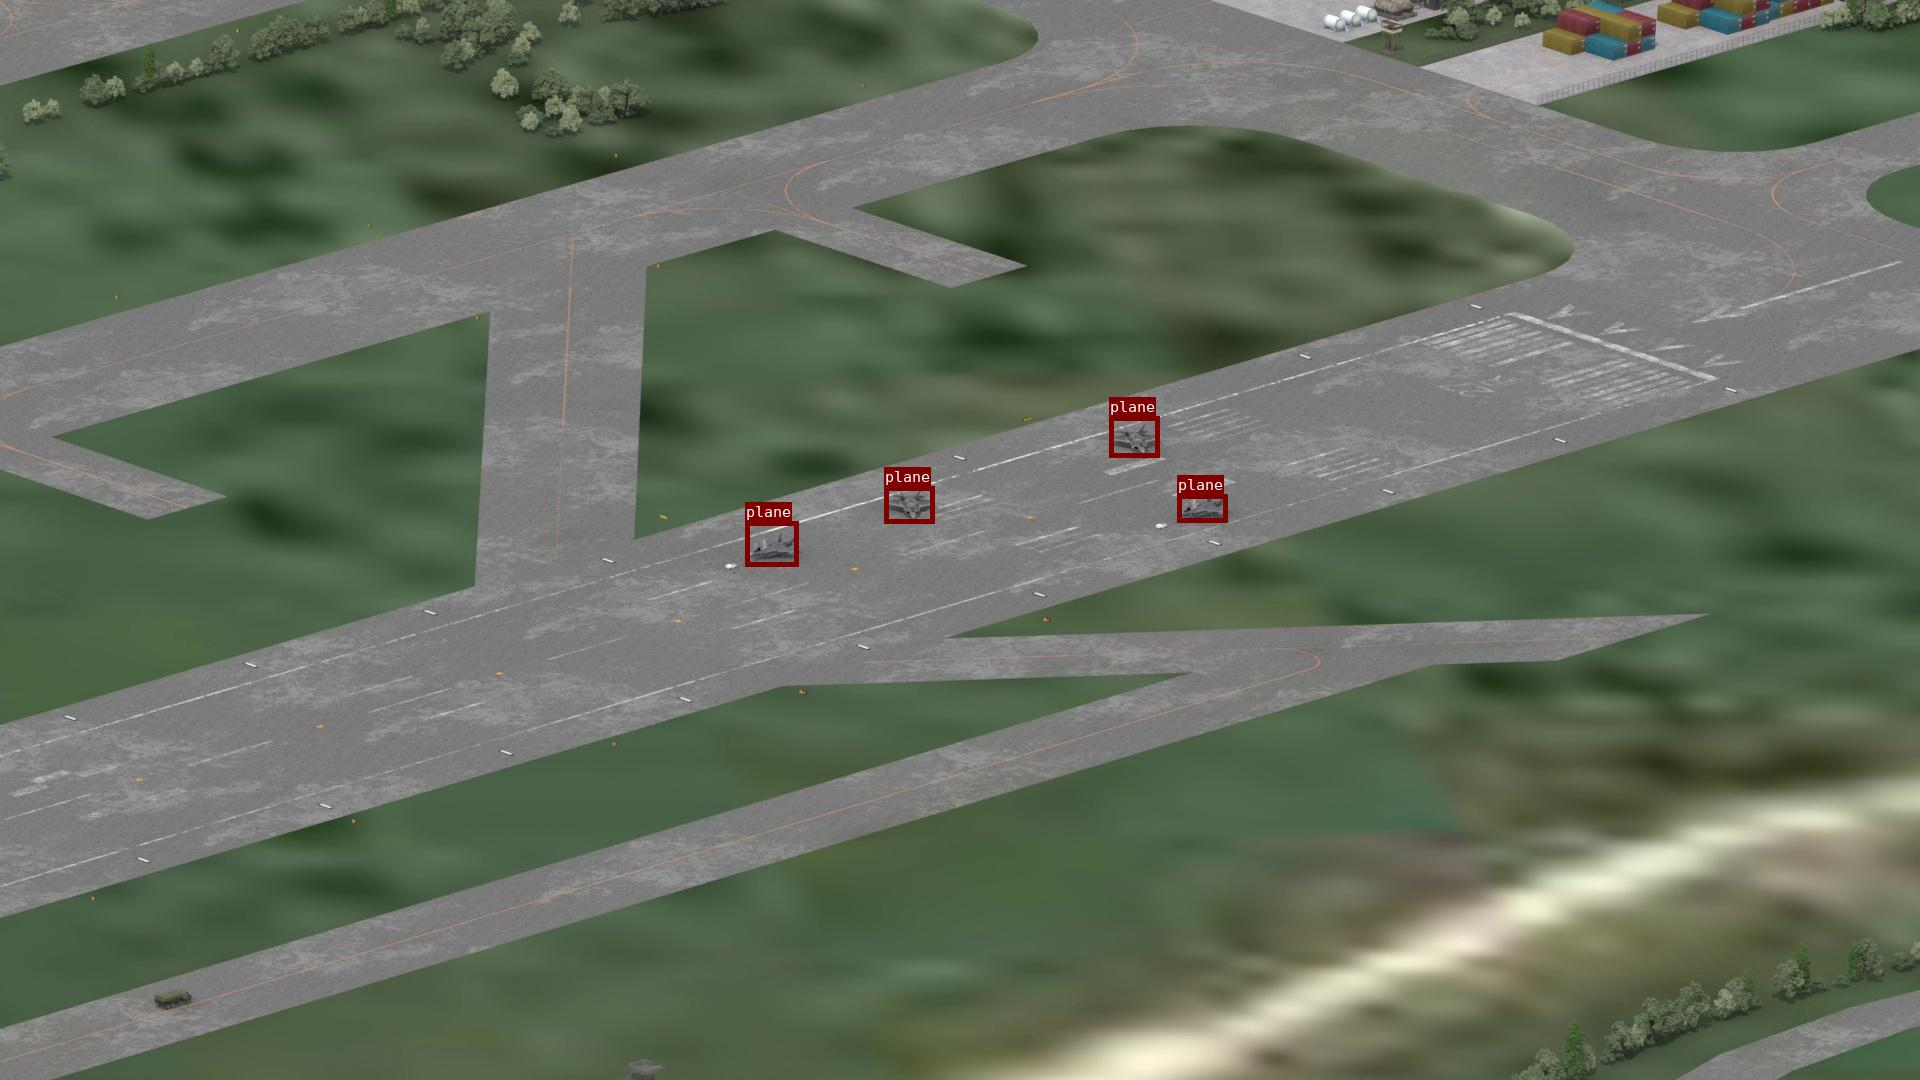plane: (745, 521, 798, 566), (1109, 415, 1159, 458), (884, 487, 934, 524), (1178, 495, 1226, 522)
